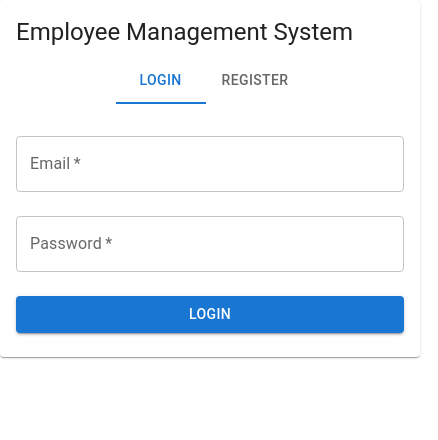
Login Page › shows error message on failed login
Type "test@test.com" into the field labelled "Email *".
click(210, 164); type("test@test.com")  # box [16, 136, 404, 192]
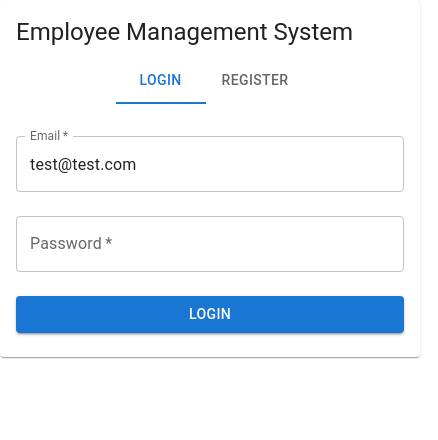
Type "wrong" into the password field labelled "Password *".
click(210, 244); type("wrong")  # box [16, 216, 404, 272]
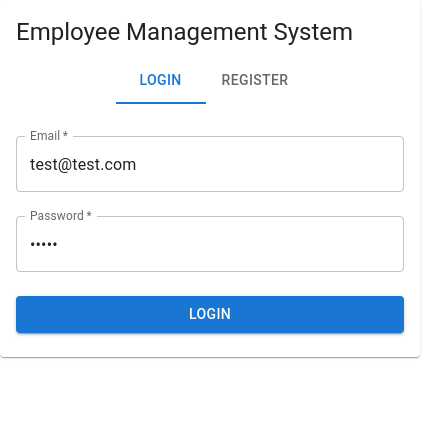
Click the button "Login".
click(210, 315)  # box [16, 296, 404, 333]
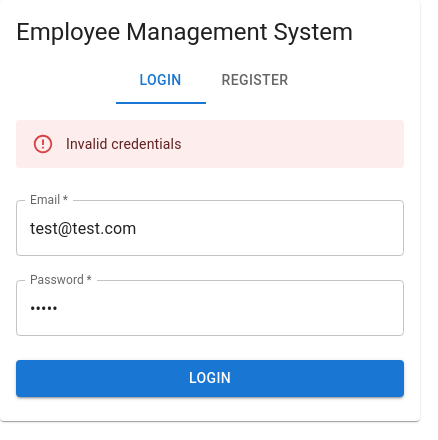
Check: the text "Invalid credentials" is shown, box [66, 136, 182, 152]
